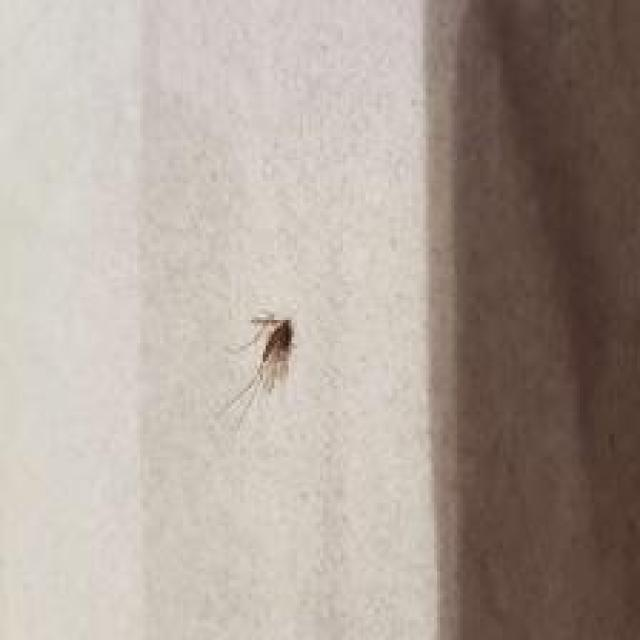Culex: (216, 312, 296, 428)
